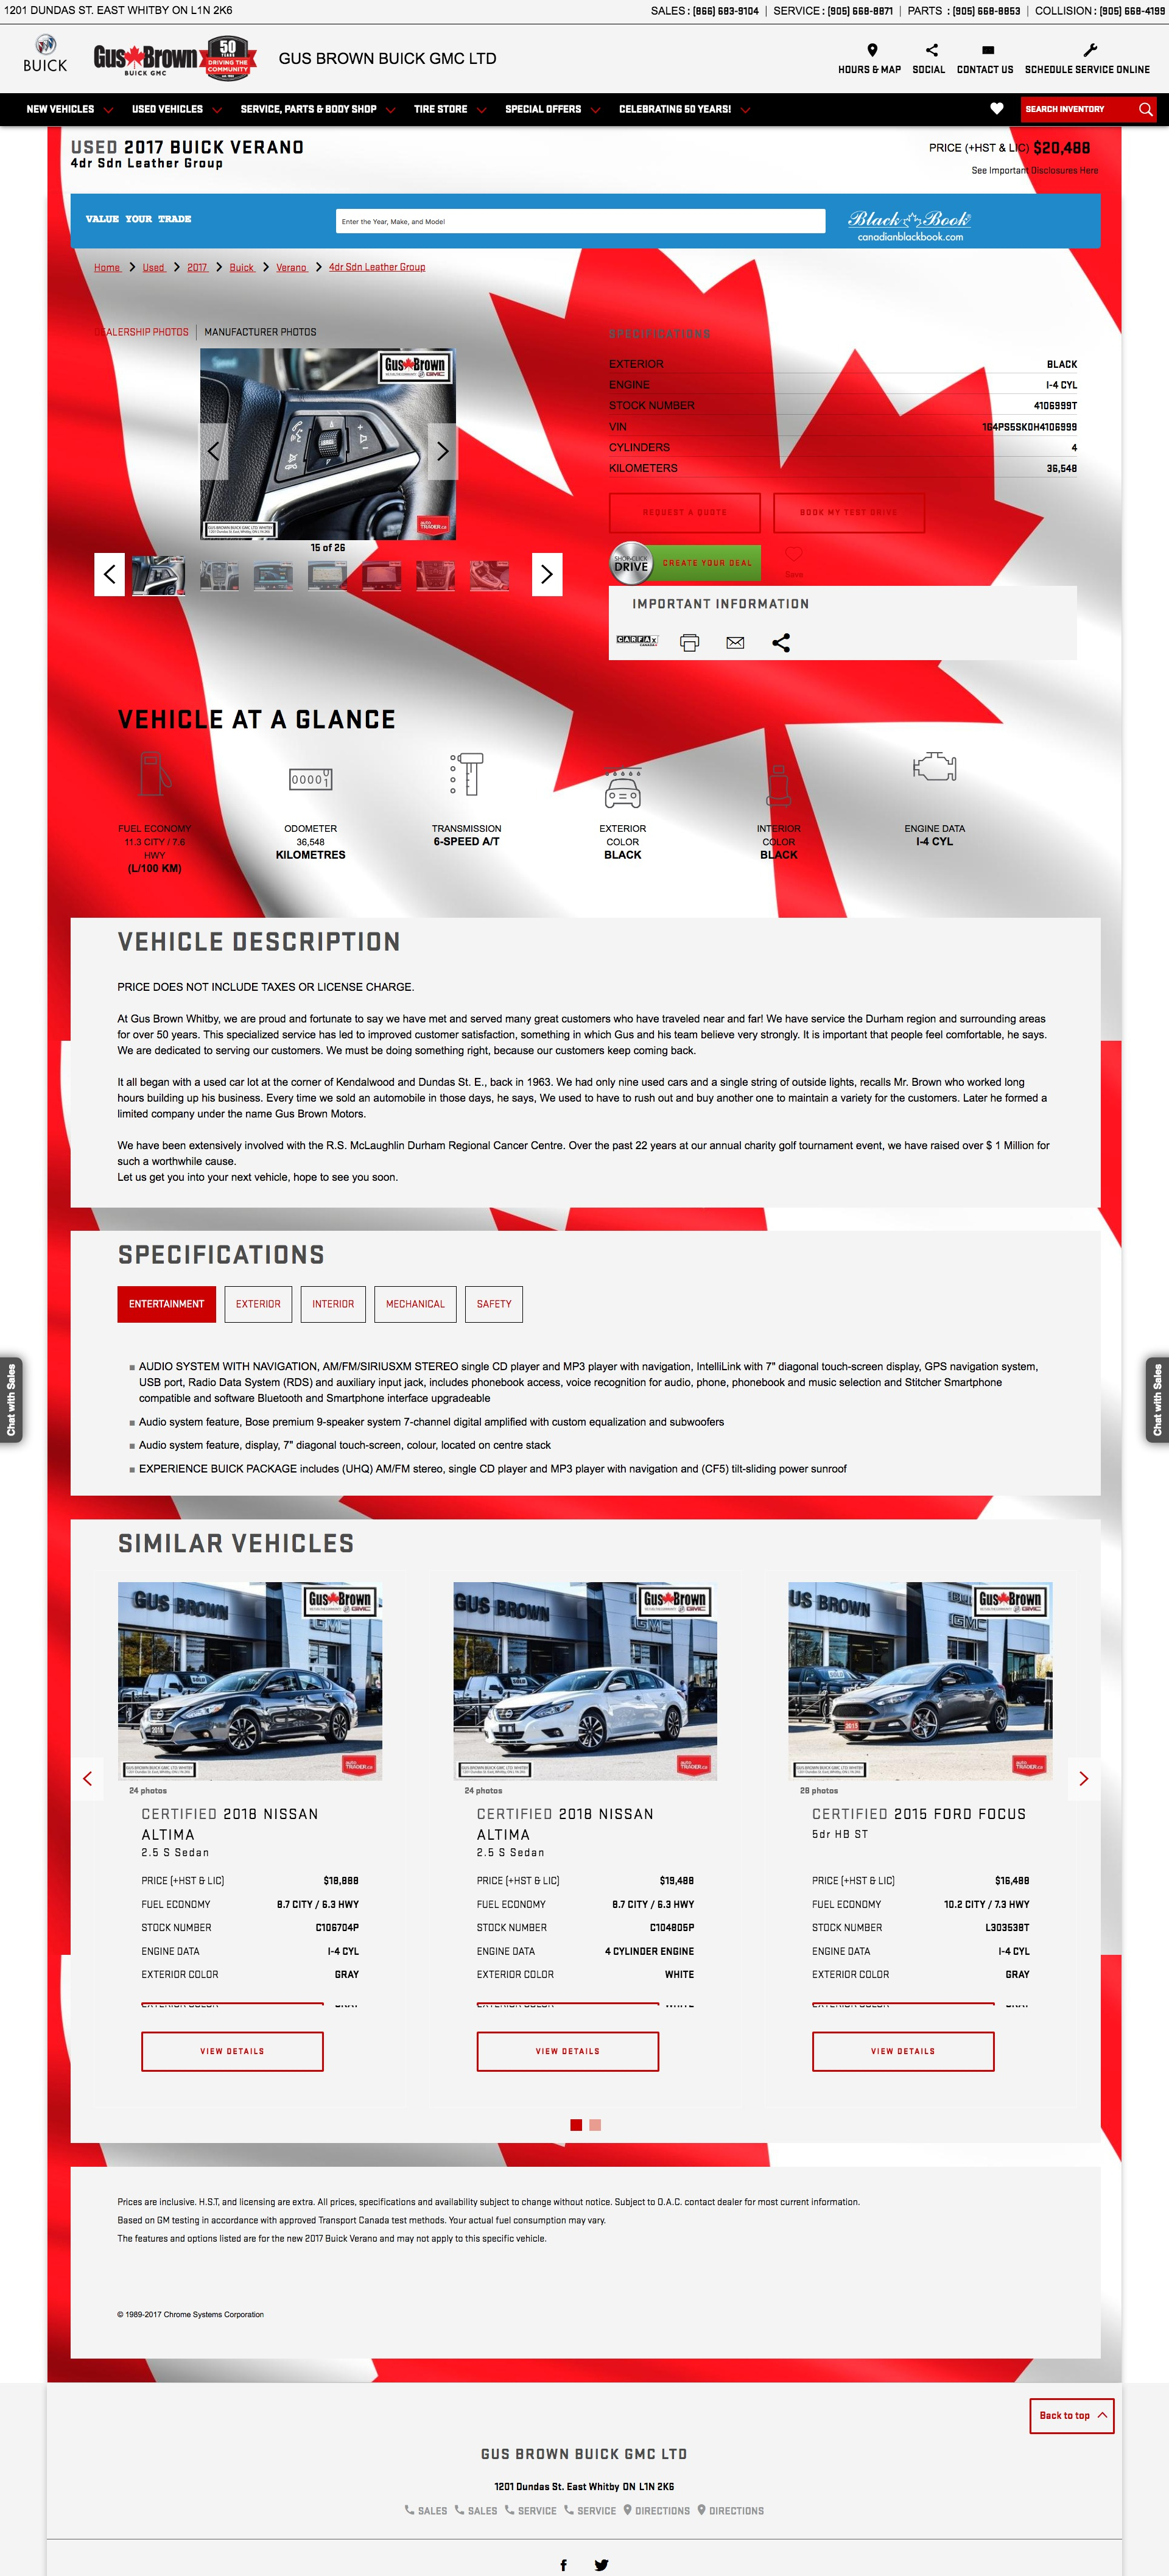car: (540, 565, 553, 583)
